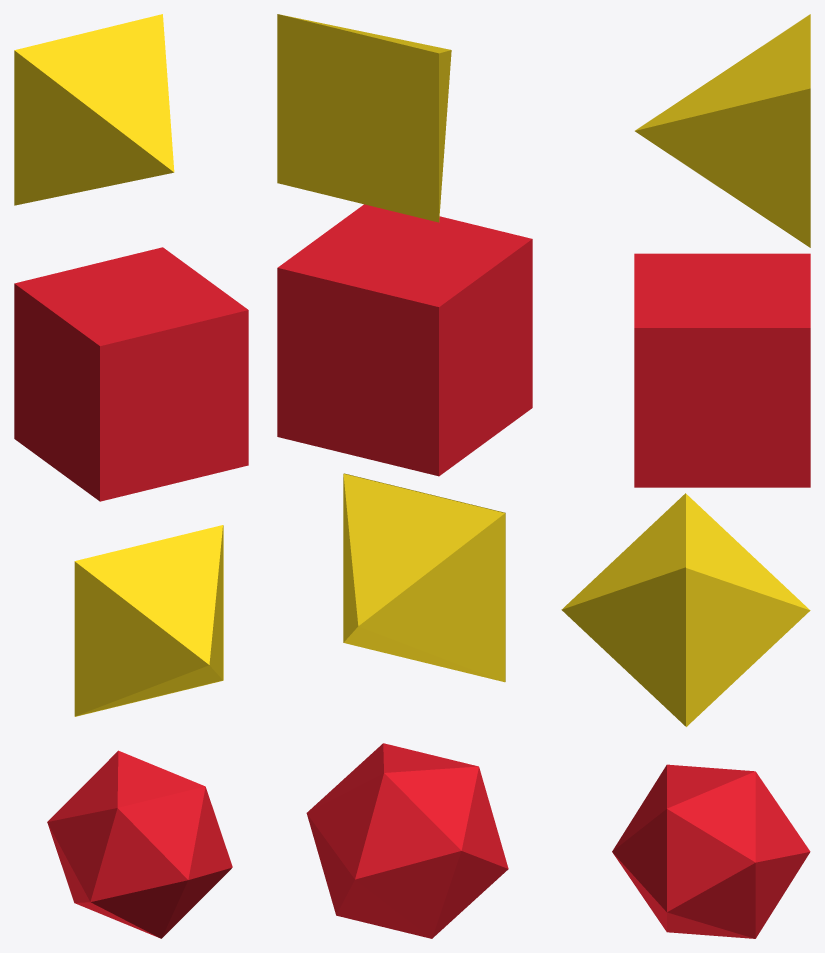
File: tinker.obj
The picture shows the model from 3 angles, left to right: view 1: azimuth 30°, elevation 25°; view 2: azimuth 150°, elevation 25°; view 3: azimuth 270°, elevation 25°; orthographic projection. The views are drawn at different scales.
Visible parts, largest first — view 1: group_0_15277357, group_0_16768282; view 2: group_0_15277357, group_0_16768282; view 3: group_0_15277357, group_0_16768282.
Boxes of the visible parts, left/top/right/bottom form: group_0_15277357: left=14, top=247, right=248, bottom=938; group_0_16768282: left=14, top=14, right=223, bottom=716; group_0_15277357: left=277, top=204, right=532, bottom=938; group_0_16768282: left=277, top=14, right=505, bottom=682; group_0_15277357: left=612, top=253, right=810, bottom=938; group_0_16768282: left=561, top=14, right=810, bottom=726.
Bounding box in the file's own units: 20.06 × 110 × 28.28.
